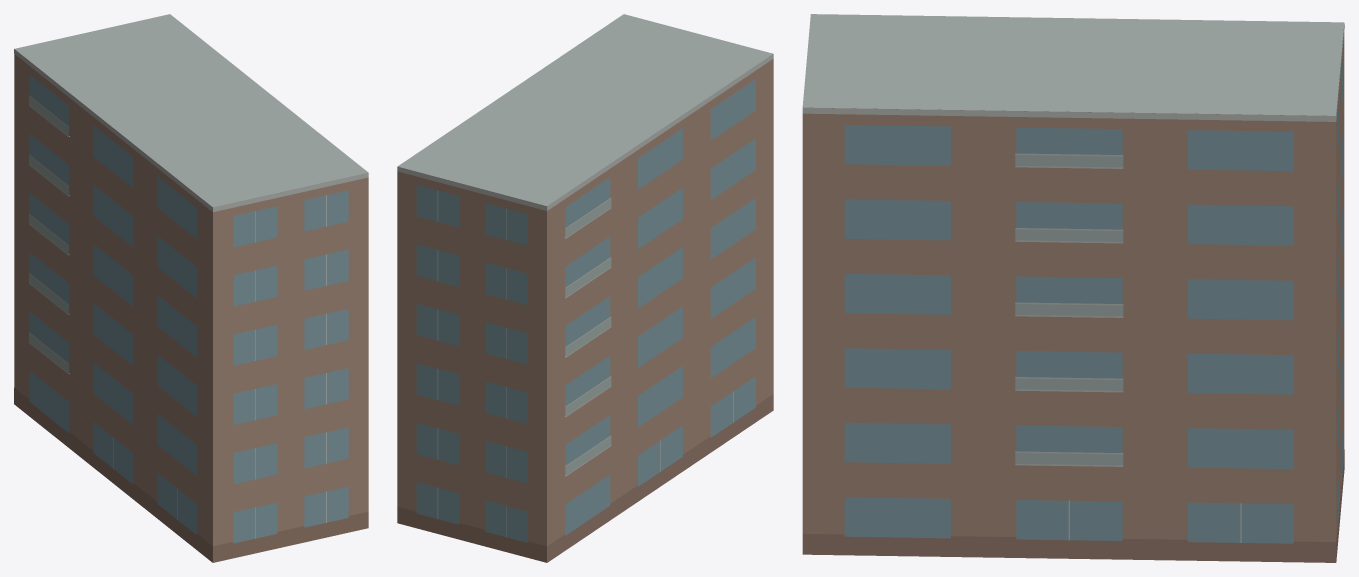
The model's file is survey-upis-32653460.glb.
3 views of the same model, side by side, from view 1: azimuth 30°, elevation 25°; view 2: azimuth 150°, elevation 25°; view 3: azimuth 270°, elevation 25° (orthographic). The views are drawn at different scales.
Visible parts, largest first — view 1: survey-upis-32653460.tmp; view 2: survey-upis-32653460.tmp; view 3: survey-upis-32653460.tmp.
Part boxes in pixels (bbox=[...]): survey-upis-32653460.tmp: bbox=[14, 14, 368, 562]; survey-upis-32653460.tmp: bbox=[397, 14, 773, 562]; survey-upis-32653460.tmp: bbox=[802, 14, 1344, 562].
Bounding box in the file's own units: 8.86 × 18.1 × 19.9.
